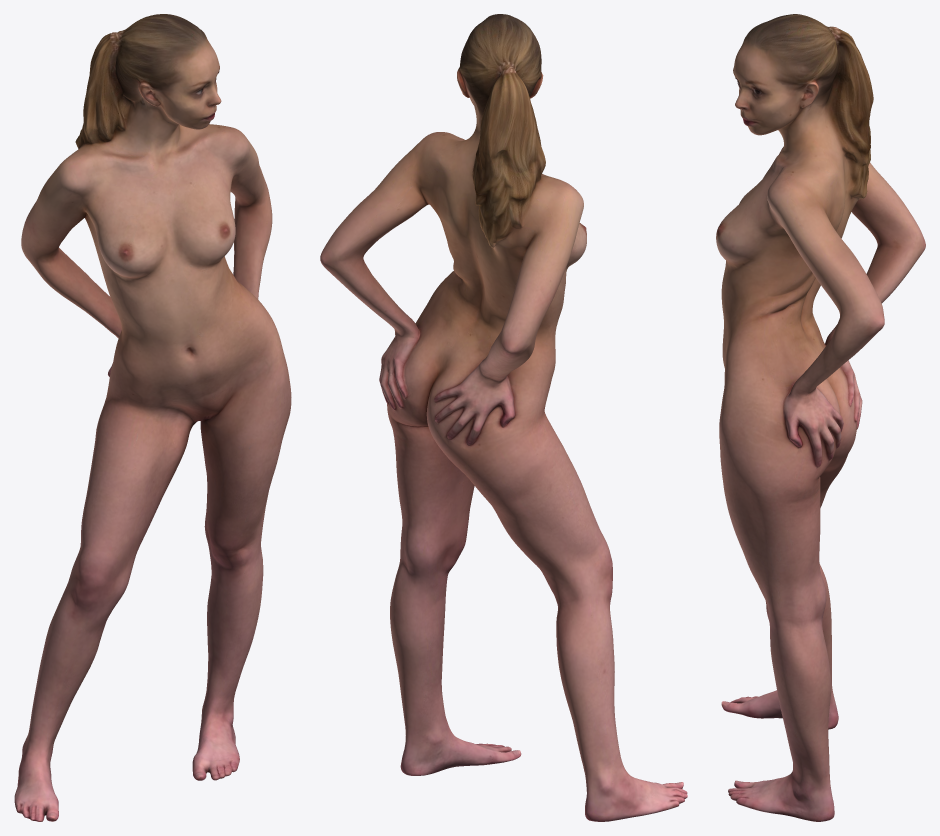
The picture shows the model from 3 angles, left to right: view 1: azimuth 30°, elevation 25°; view 2: azimuth 150°, elevation 25°; view 3: azimuth 270°, elevation 25°; orthographic projection. The views are drawn at different scales.
Visible parts, largest first — view 1: vera_GKOZ05_1; view 2: vera_GKOZ05_1; view 3: vera_GKOZ05_1.
Part boxes in pixels (x1,y1,x2,y2): vera_GKOZ05_1: (14,14,291,821); vera_GKOZ05_1: (320,14,687,821); vera_GKOZ05_1: (716,14,925,821).
Size of the model in its own units: 0.6317 by 1.51 by 0.3757.
1 material, 1 textured.
